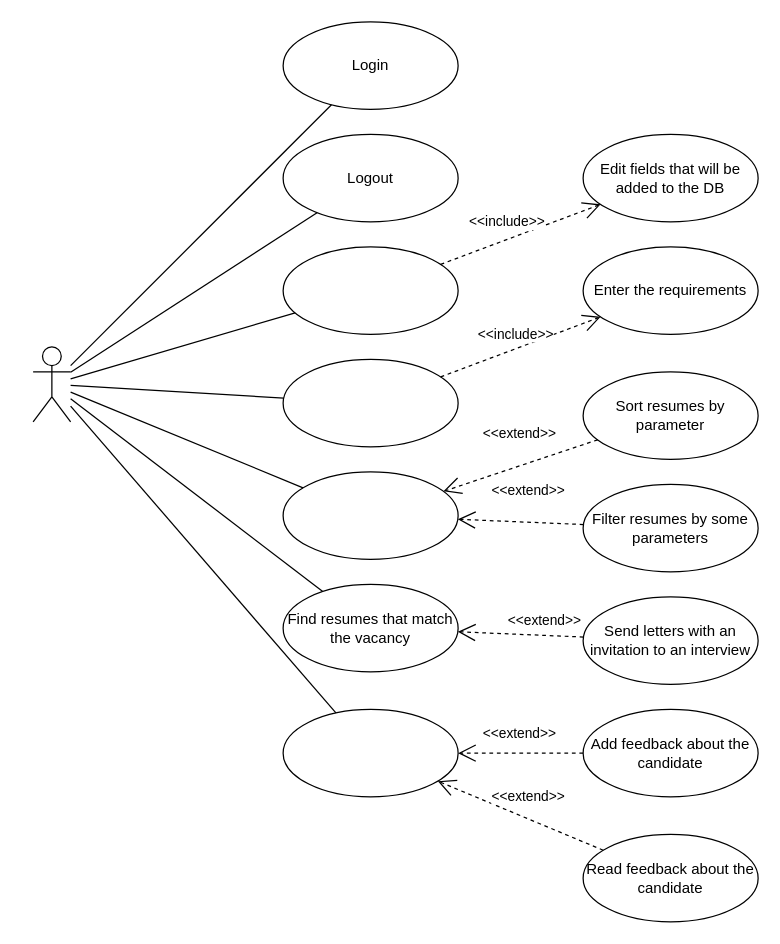
The diagram is 780 pixels wide and 944 high, and some of its shapes have lost their labels. The shapes that lost their labels are listed below. From the top down, each one's box as (x1, y1, x2, y2) in pixels, then its label:
(282, 246, 458, 334): Upload the resume
(32, 346, 71, 422): Recruiter
(282, 358, 458, 447): Create the vacancy
(282, 471, 458, 559): View a list of all resumes
(282, 708, 458, 797): Read the resume
